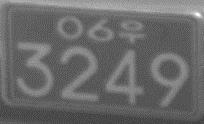0: (56, 14, 84, 40)
2: (58, 44, 98, 102)
3: (15, 40, 53, 98)
4: (104, 47, 144, 107)
6: (87, 17, 115, 42)
9: (150, 50, 189, 106)
우: (118, 18, 146, 43)
